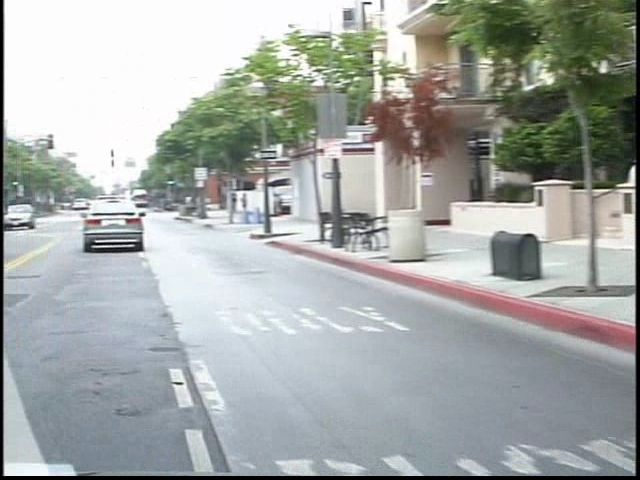person: (582, 143, 638, 245), (224, 188, 238, 222)
